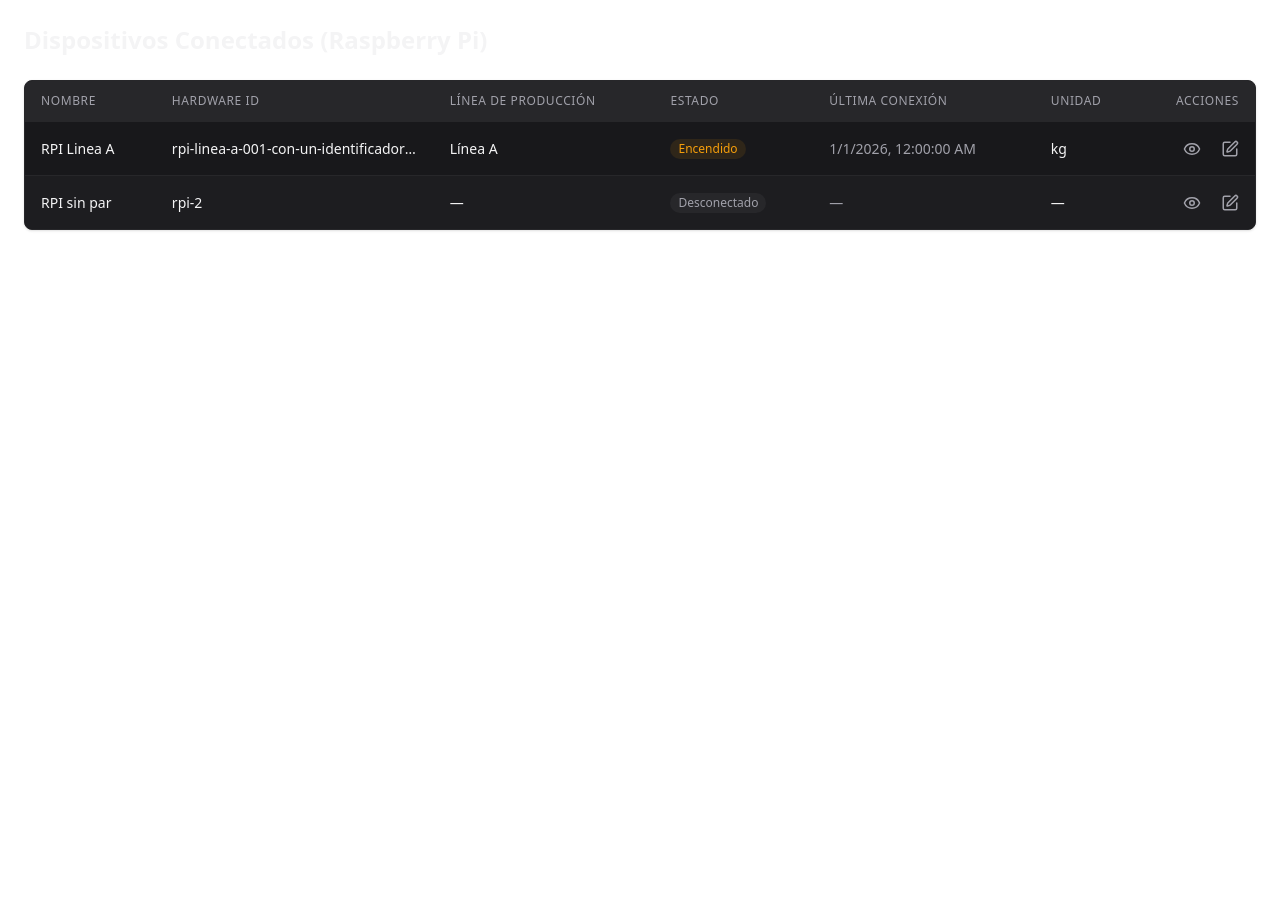
DispositivosConectadosPage detail drawer › shows every field in full without opening the edit form and without a history action
Expected: the text "RPI Linea A" is shown, [25, 122, 156, 176]
Click the button named "Ver detalle" in the row of "RPI Linea A" at (1192, 148), box [1183, 140, 1201, 158]
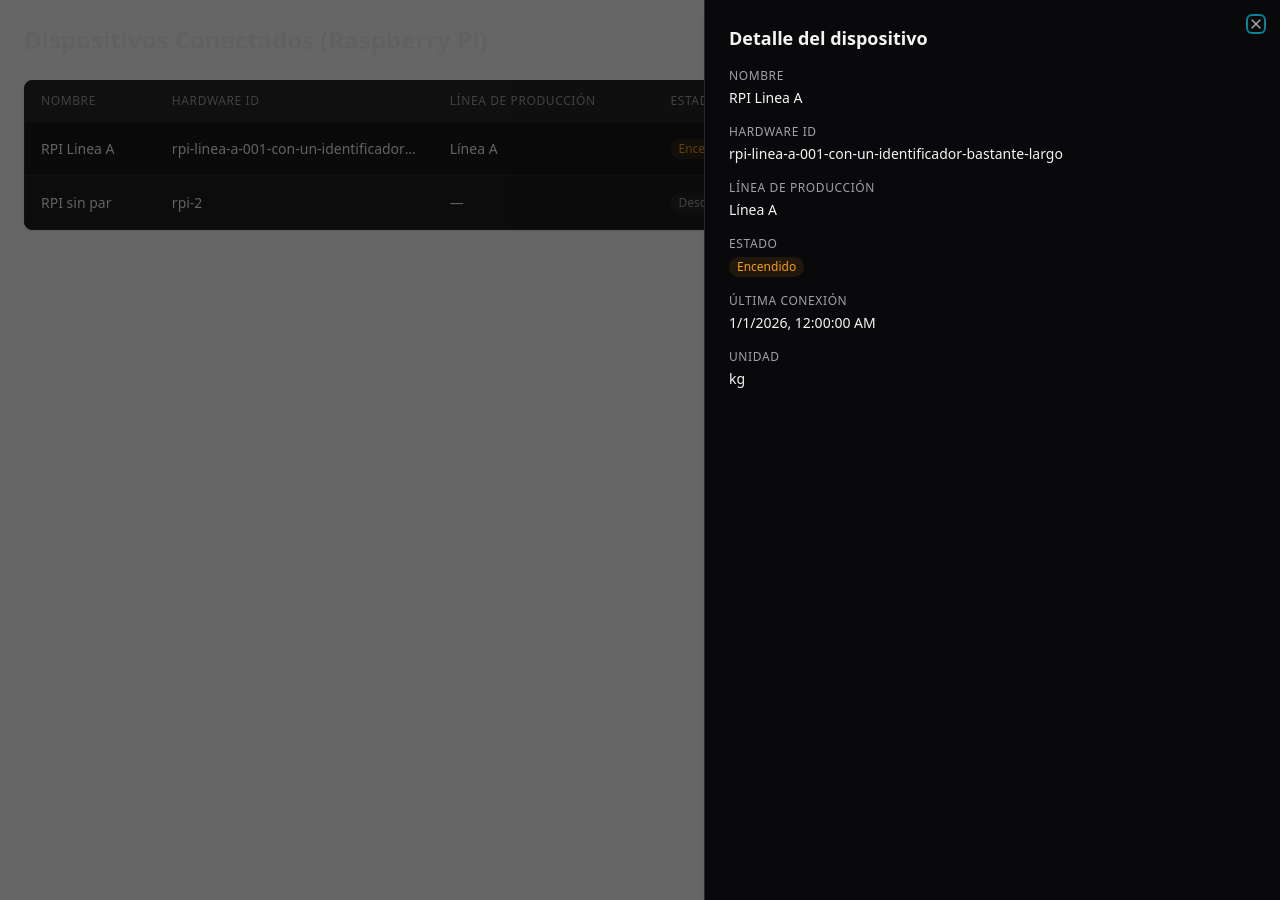
Result: the heading "Detalle del dispositivo" is shown at [729, 26, 928, 50]
Result: the text "RPI Linea A" is shown once at [729, 88, 802, 107]
Result: the text "rpi-linea-a-001-con-un-identificador-bastante-largo" is shown at [729, 144, 1063, 163]
